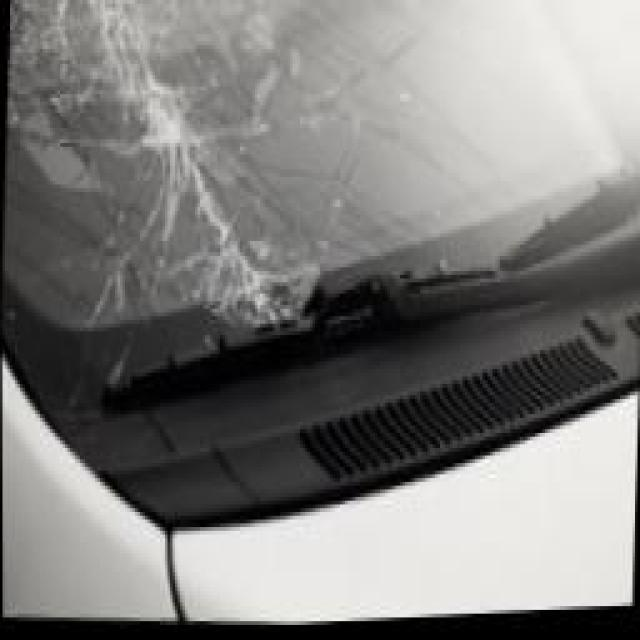Windshield: (0, 0, 640, 392)
